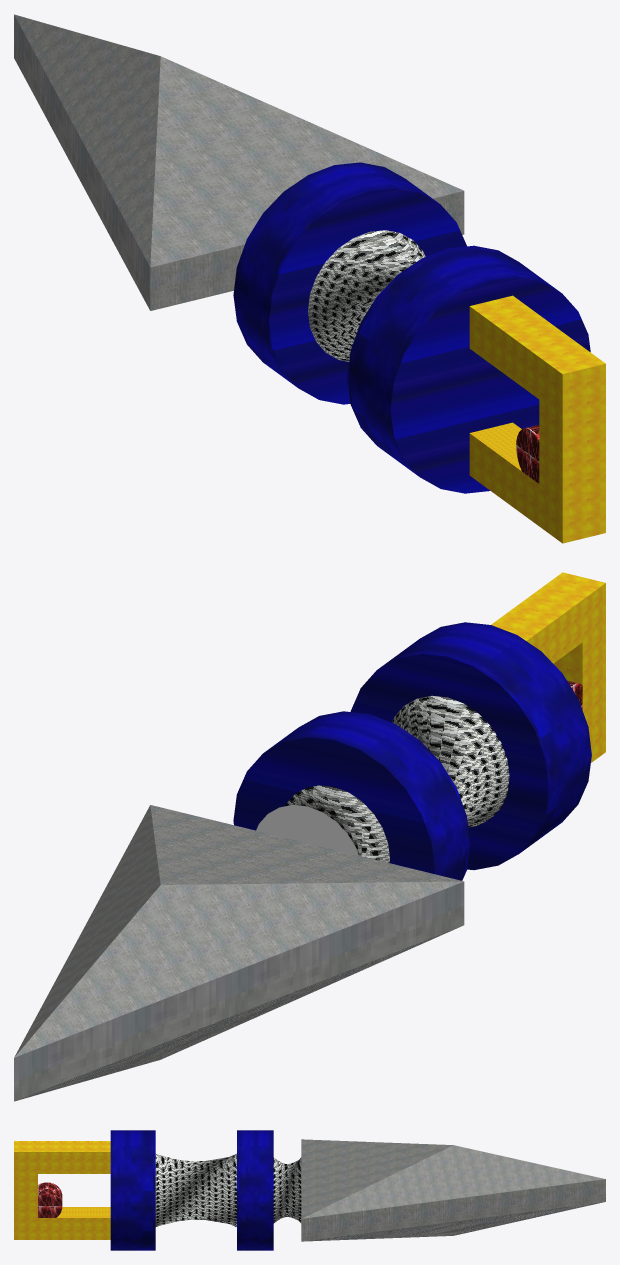
The model's file is longshot.dae.
The picture shows the model from 3 angles, top to bottom: view 1: azimuth 30°, elevation 25°; view 2: azimuth 150°, elevation 25°; view 3: azimuth 270°, elevation 25°; orthographic projection. The views are drawn at different scales.
Visible parts, largest first — view 1: SketchUp (×6); view 2: SketchUp (×7); view 3: SketchUp (×7).
Boxes of the visible parts, <box> form: SketchUp (×6): <box>14,14,605,543</box>; SketchUp (×7): <box>14,572,605,1101</box>; SketchUp (×7): <box>14,1130,605,1250</box>.
Size of the model in its own units: 50.87 by 160 by 32.62.
6 materials, 5 textured.
